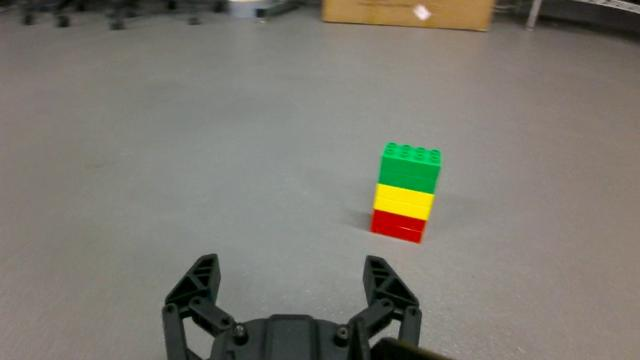lego: (366, 139, 444, 246)
